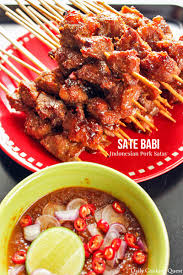sate: (9, 2, 183, 159)
